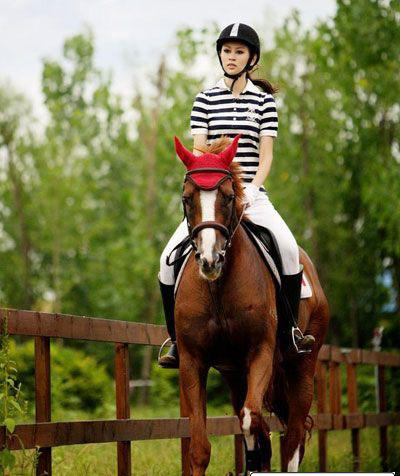person: (159, 23, 317, 364)
